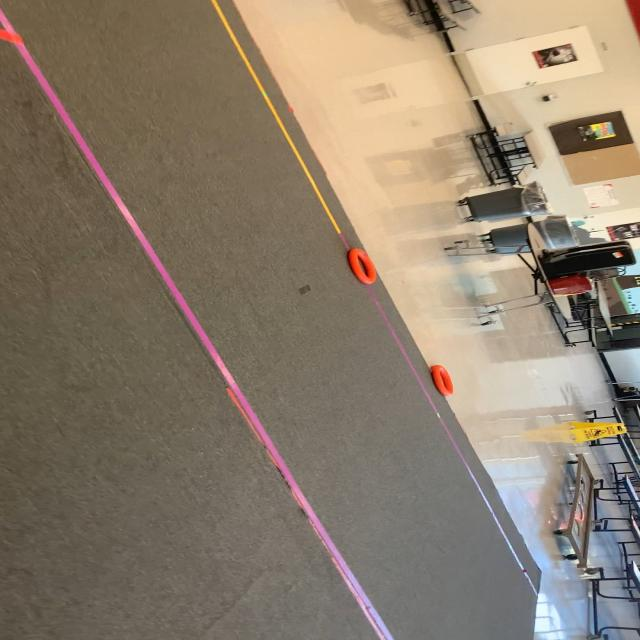notes: (428, 357, 458, 403), (344, 248, 380, 286)
